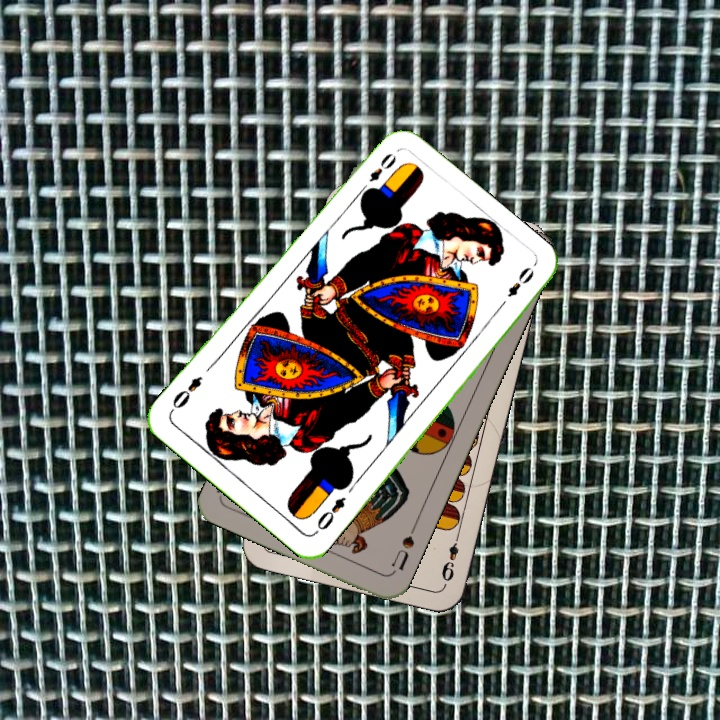E9: (437, 529, 463, 584)
EO: (355, 149, 400, 197), (311, 492, 349, 537)
SU: (387, 520, 419, 576)
